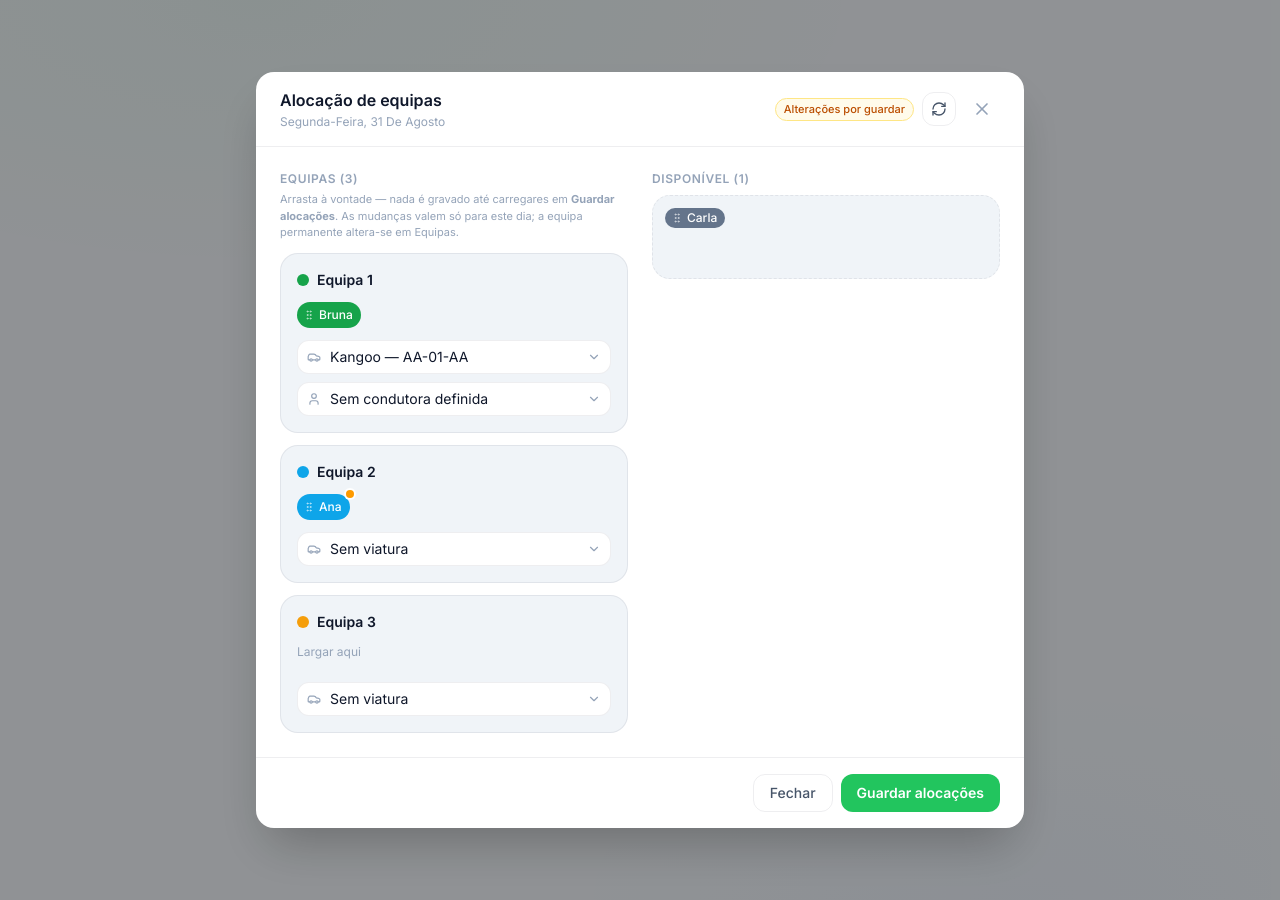
Test: 🔴 fechar com alterações por guardar › pergunta antes de descartar, e não grava sozinho
This screenshot has width=1280, height=900.
Click the button "Fechar": (793, 793) 753,774 -> 832,812
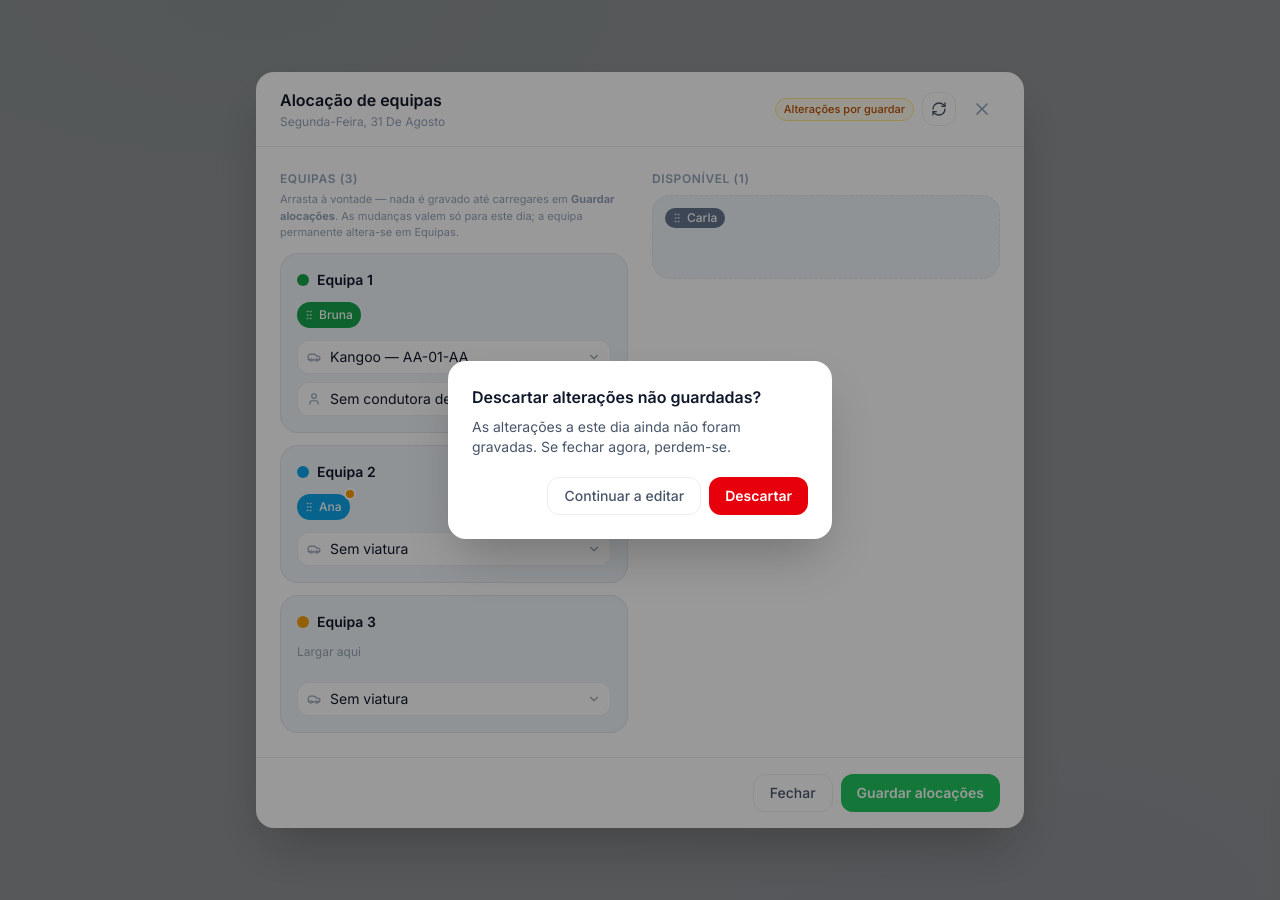
Expected: the text "Descartar alterações não guardadas?" is shown, 472,385 -> 808,409
